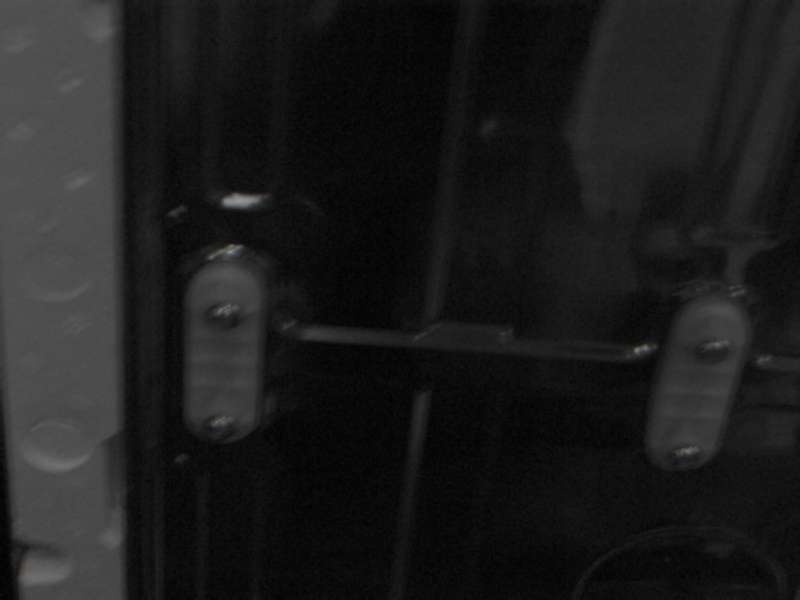screw: (205, 302, 243, 329), (203, 414, 237, 442), (667, 445, 704, 469), (695, 339, 732, 363)
